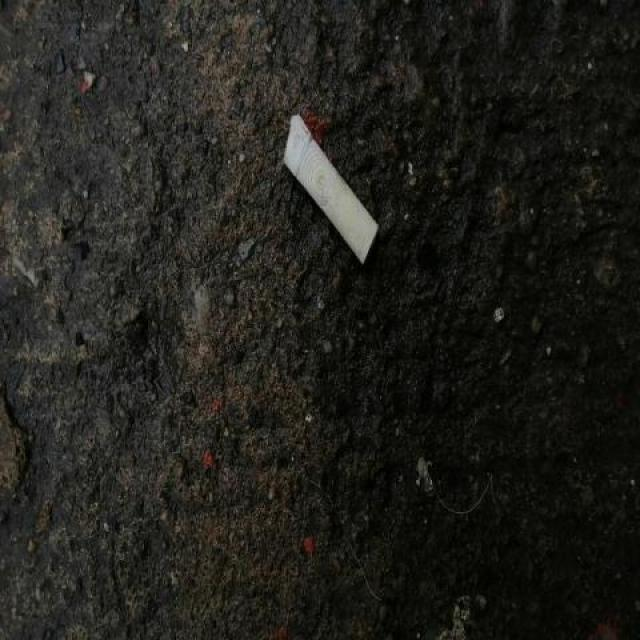non-organic waste: (278, 109, 382, 267)
